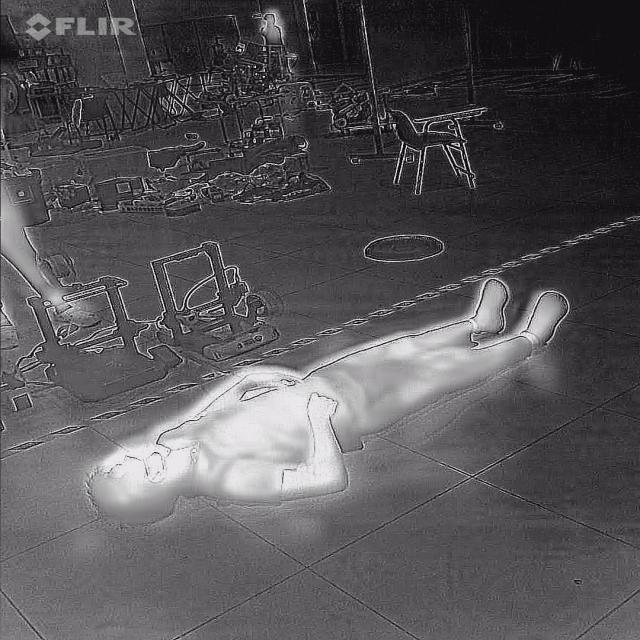Victim: (73, 269, 574, 539)
